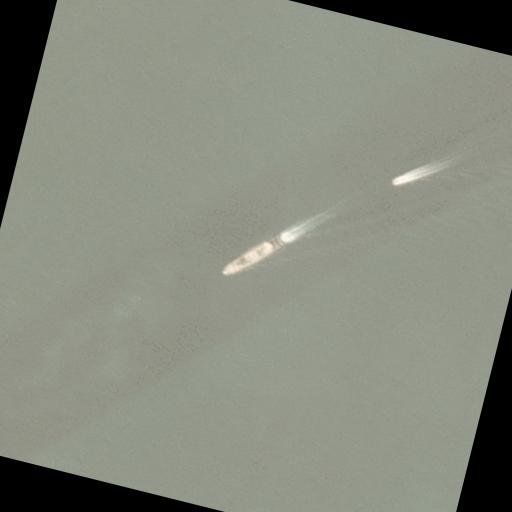ship: (220, 224, 292, 288), (390, 173, 407, 188)
